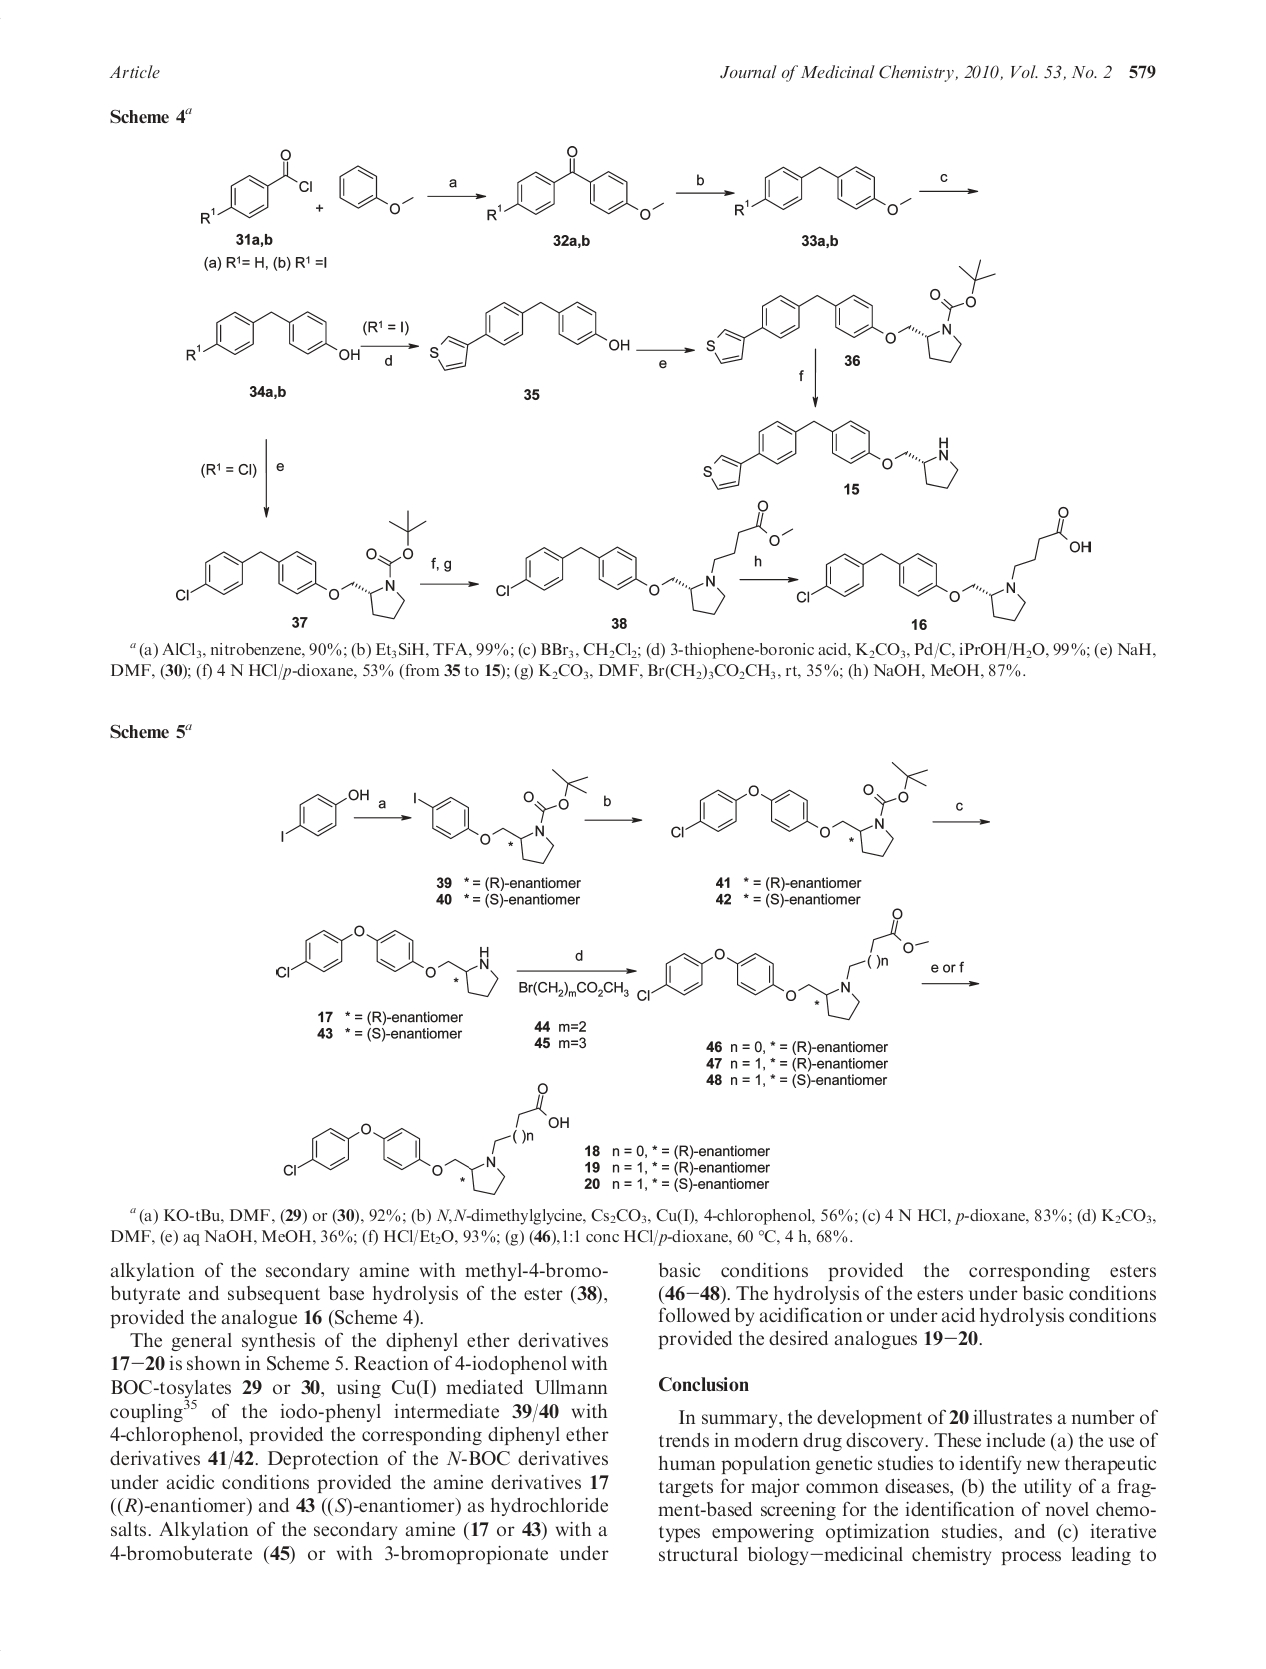exist_molecular: (495, 497, 797, 618), (797, 505, 1094, 622), (282, 1081, 572, 1196), (636, 910, 931, 1021), (706, 258, 997, 367), (176, 508, 430, 620), (669, 761, 930, 858), (702, 418, 960, 492), (411, 767, 590, 866), (274, 923, 499, 997), (481, 144, 666, 225), (430, 299, 630, 372), (730, 162, 915, 219), (197, 144, 314, 227), (184, 311, 360, 360), (279, 785, 370, 844), (336, 164, 414, 213)
